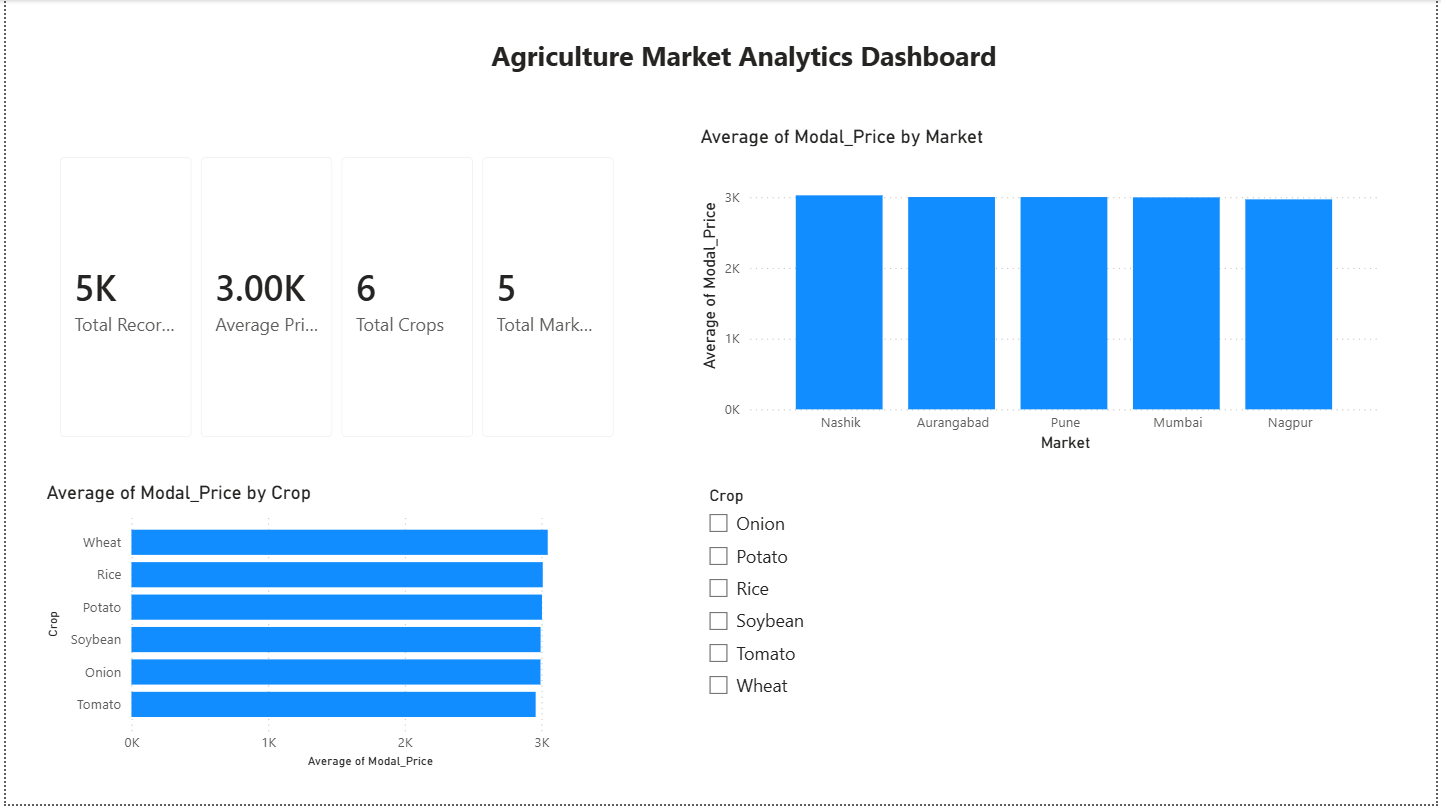

Layout of this report page (visuals, bound fields, positions):
{"tool":"powerbi","page":{"name":"Page 1","canvas":[1280,720],"ordinal":0},"visuals":[{"type":"cardVisual","fields":{"Data":["public crop_prices.Total Records","public crop_prices.Average Price","public crop_prices.Total Crops","public crop_prices.Total Markets"]},"box":[31.1,123.5,530.1,286],"z":0},{"type":"clusteredBarChart","fields":{"Category":["public crop_prices.Crop"],"Y":["Avg(public crop_prices.Modal_Price)"]},"box":[31.1,430.9,521.3,261.6],"z":1000},{"type":"clusteredColumnChart","fields":{"Category":["public crop_prices.Market"],"Y":["Avg(public crop_prices.Modal_Price)"]},"box":[616.7,111.9,618.6,297.6],"z":2000},{"type":"slicer","fields":{"Values":["public crop_prices.Crop"]},"box":[616.7,430.9,618.6,261.6],"z":3000},{"type":"textbox","box":[418.2,28.2,485.3,63.2],"z":3001}]}

Visuals, with their boxes in screenshot pixels (x1, y1, x2, y2), scaled from the page's 1280x720 canvas onto the 1441x809 screenshot:
cardVisual - public crop_prices.Total Records x public crop_prices.Average Price: l=35, t=139, r=632, b=460
clusteredBarChart - public crop_prices.Crop x Avg(public crop_prices.Modal_Price): l=35, t=484, r=622, b=778
clusteredColumnChart - public crop_prices.Market x Avg(public crop_prices.Modal_Price): l=694, t=126, r=1391, b=460
slicer - public crop_prices.Crop: l=694, t=484, r=1391, b=778
textbox: l=471, t=32, r=1017, b=103
